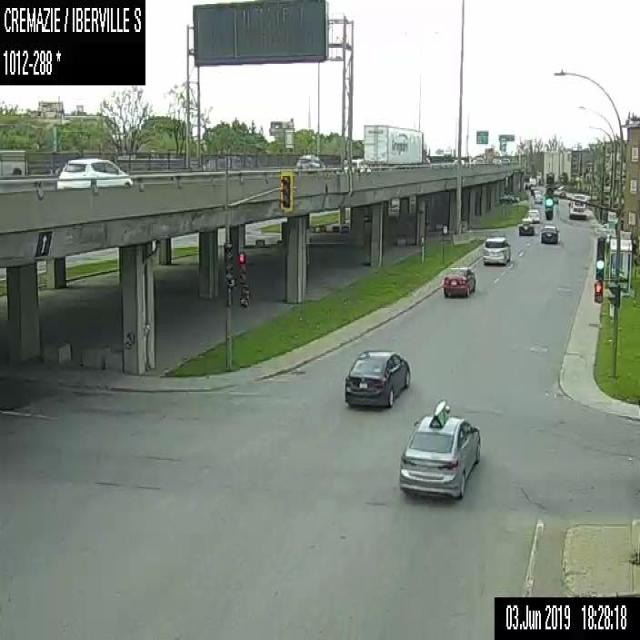bus: (567, 192, 588, 218)
vehicle: (399, 398, 481, 502), (344, 348, 411, 405), (363, 124, 430, 170), (57, 156, 134, 189), (442, 265, 475, 297), (482, 234, 509, 266), (0, 148, 28, 175), (294, 152, 327, 172), (344, 156, 371, 173), (540, 223, 558, 244), (518, 216, 534, 235), (527, 207, 539, 222), (484, 146, 494, 164), (452, 158, 464, 166), (474, 156, 484, 165), (532, 188, 540, 198), (534, 193, 542, 202), (501, 156, 510, 164), (524, 181, 532, 189), (530, 185, 537, 194), (556, 185, 566, 191), (528, 177, 536, 184), (493, 158, 501, 165), (552, 195, 557, 203)
